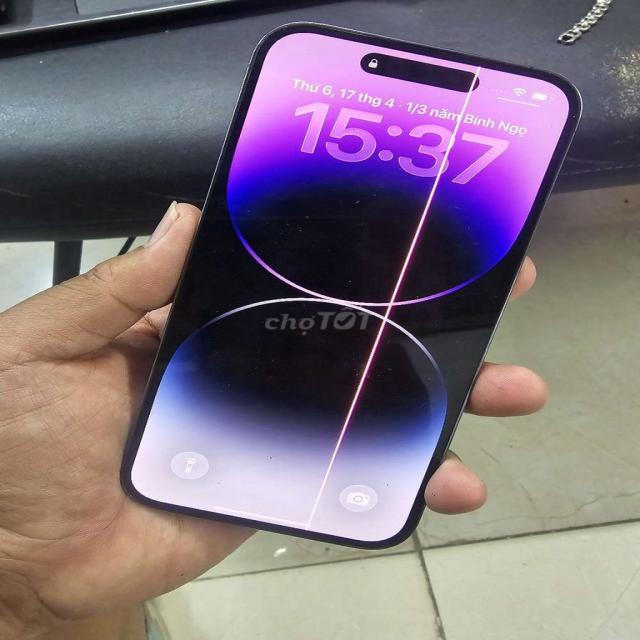gen_14: (120, 18, 582, 551)
